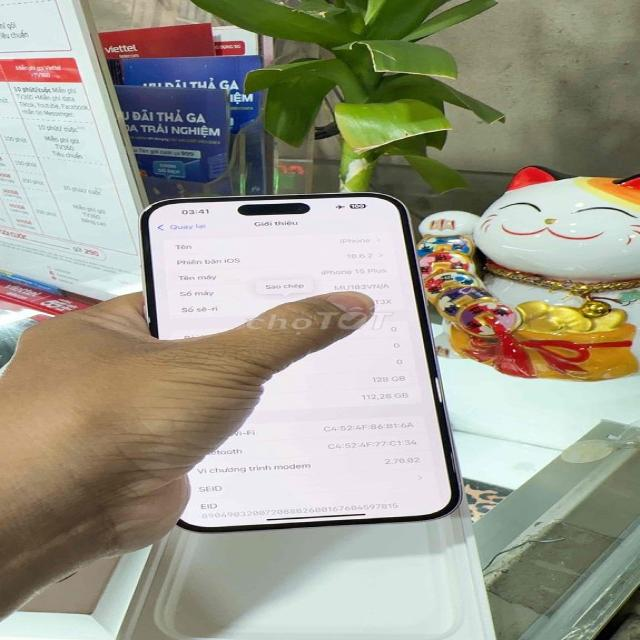gen_15: (129, 178, 476, 534)
